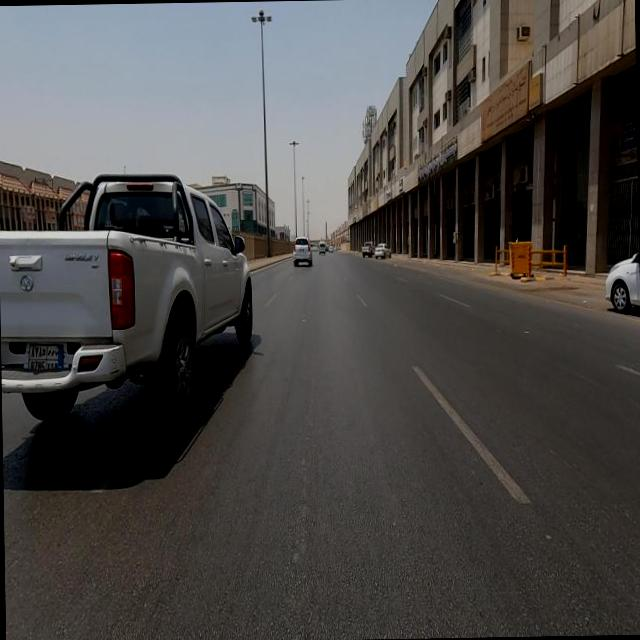debris: (451, 53, 557, 170), (351, 191, 378, 227)
